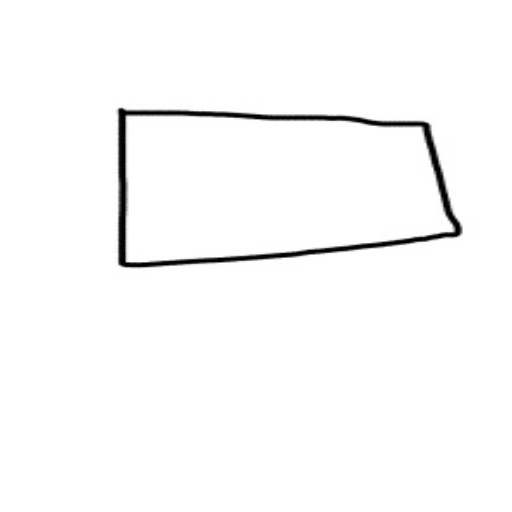rectangle: (106, 106, 469, 289)
